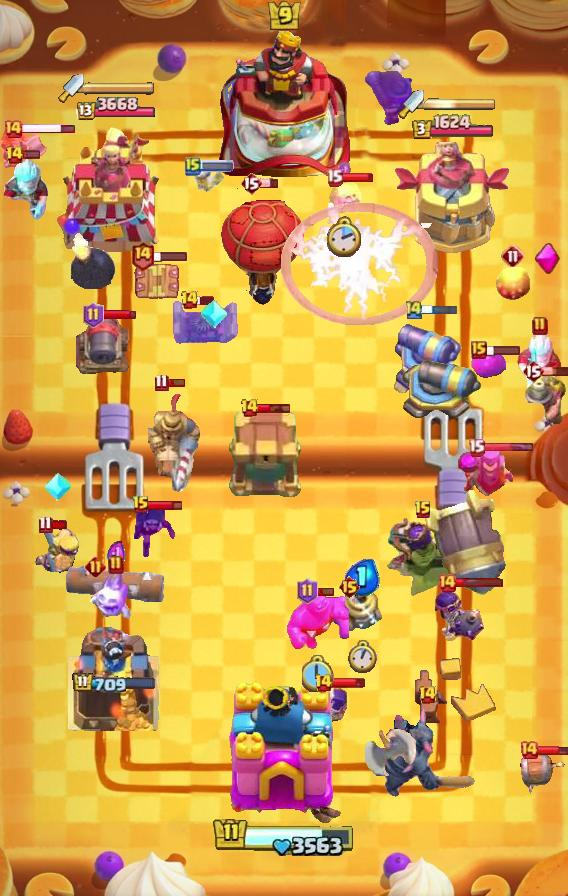axe: (363, 712, 417, 776)
bandit: (128, 503, 178, 557)
bar: (21, 122, 76, 135), (482, 442, 534, 453), (454, 577, 504, 588), (422, 303, 459, 316), (148, 499, 183, 512), (330, 677, 366, 689), (256, 402, 292, 414), (485, 344, 521, 356), (101, 309, 137, 321), (152, 250, 188, 262), (198, 160, 234, 172), (536, 744, 568, 757), (340, 172, 374, 183), (542, 365, 568, 377), (50, 519, 69, 531), (315, 586, 335, 597), (166, 377, 186, 388), (196, 295, 216, 306), (260, 178, 279, 189), (22, 149, 41, 160)
bar-level: (130, 240, 155, 271), (501, 244, 525, 268), (338, 575, 361, 599), (297, 578, 318, 604), (83, 302, 104, 328), (522, 359, 544, 383), (240, 171, 262, 195), (85, 556, 106, 577), (404, 299, 424, 320), (519, 740, 539, 760), (437, 573, 457, 593), (3, 119, 23, 139), (418, 685, 437, 705), (314, 673, 333, 693), (240, 398, 259, 418), (180, 290, 199, 310), (5, 145, 24, 165), (414, 500, 432, 520), (132, 495, 150, 515), (468, 438, 485, 457), (326, 168, 343, 187), (108, 555, 124, 575), (532, 316, 548, 336), (185, 156, 201, 176), (471, 341, 487, 359), (38, 515, 53, 534), (154, 373, 169, 392)
barbarian-evolution: (33, 523, 81, 575)
bomb: (70, 230, 116, 289)
bomber-evolution: (433, 588, 487, 644)
clock: (327, 216, 363, 259), (302, 655, 334, 692), (348, 640, 377, 674)
dagger-duchess-tower: (55, 126, 173, 256), (394, 142, 512, 256)
dagger-duchess-tower-bar: (424, 97, 496, 111), (84, 81, 156, 95)
elixir: (345, 559, 380, 596), (107, 540, 126, 569), (338, 161, 352, 179)
elixir-golem-mid: (287, 590, 349, 650)
elixir-golem-small: (471, 350, 507, 380)
evolution-symbol: (532, 242, 560, 276)
heal-spirit: (327, 177, 363, 215)
ice-spirit-evolution: (90, 571, 132, 621)
ice-spirit-evolution-symbol: (43, 472, 73, 502), (199, 299, 229, 329)
ice-wizard: (0, 153, 52, 221), (516, 326, 564, 392)
king-tower: (218, 27, 350, 181), (222, 680, 346, 826)
king-tower-bar: (212, 817, 356, 859)
miner: (516, 372, 568, 428)
mother-witch: (456, 444, 516, 496)
musketeer: (363, 68, 415, 128)
phoenix-egg: (496, 263, 530, 301)
queen-tower: (68, 627, 160, 731)
skeleton: (191, 163, 225, 195)
skeleton-evolution: (323, 686, 349, 722)
tesla: (169, 298, 239, 348), (131, 259, 181, 305)
the-log: (65, 566, 167, 602)
tower-bar: (411, 114, 495, 141), (74, 97, 155, 123), (72, 672, 157, 695)
valkyrie: (0, 125, 50, 173)
wall-breaker: (518, 753, 568, 795)
zappy: (339, 584, 385, 632)
